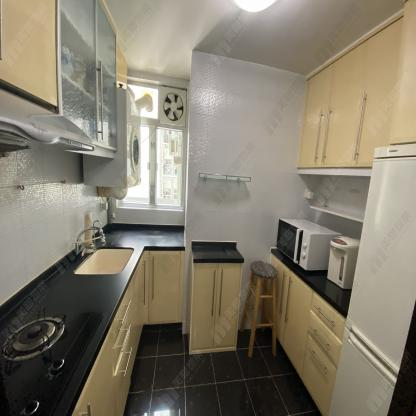Cupboard: (297, 0, 416, 178), (72, 249, 184, 416), (270, 253, 346, 416), (188, 241, 244, 356)
Exhaust Fan: (161, 85, 187, 125)
Faucet: (73, 223, 108, 254)
Fridge: (328, 144, 416, 416)
Microwave: (275, 217, 343, 272)
Sink: (73, 245, 133, 275)
Stove: (0, 308, 105, 416)
Washing Machine: (82, 87, 142, 185)
